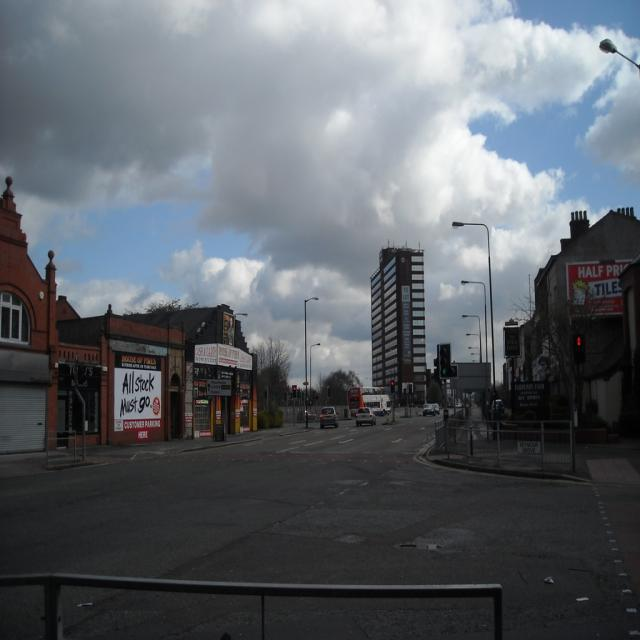traffic light: (438, 345, 455, 375), (574, 336, 587, 364)
